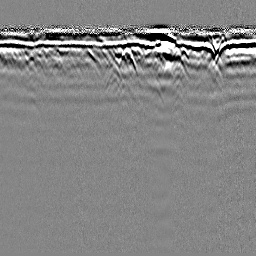cavity: (118, 44, 137, 72)
